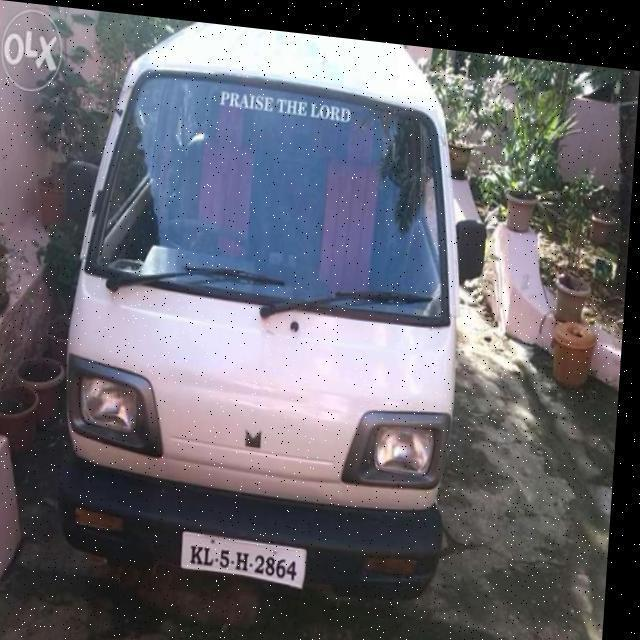Ambulance: (52, 7, 501, 625), (0, 209, 625, 640)
